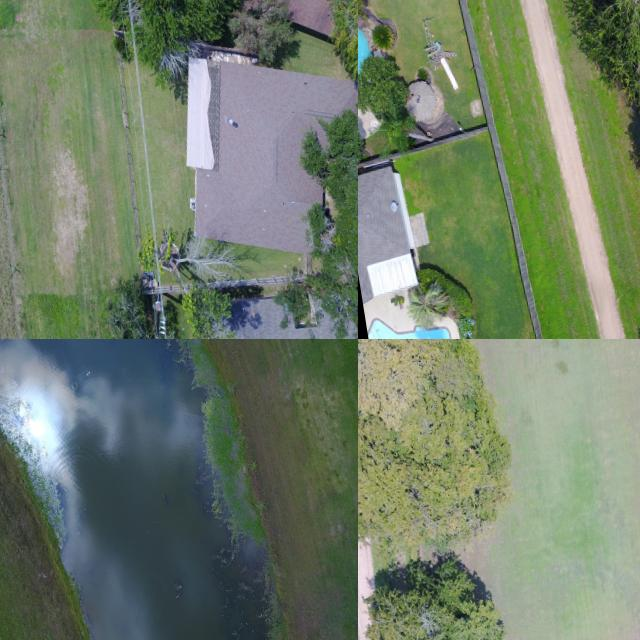fire: (0, 339, 268, 640)
